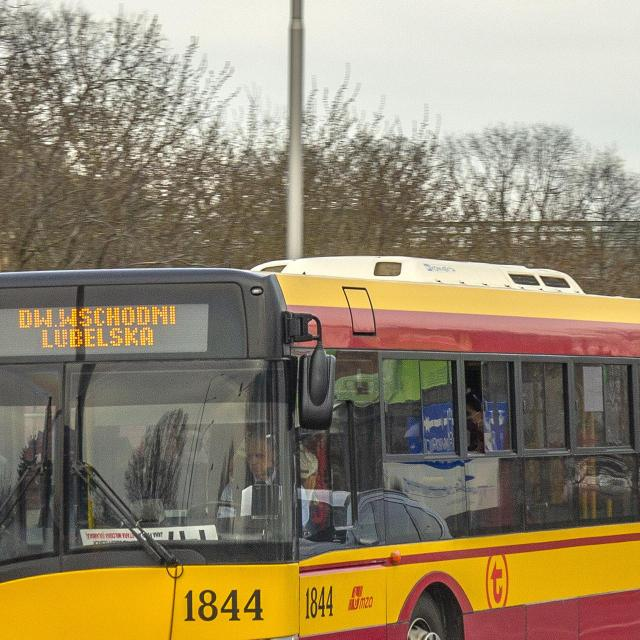Bus: (0, 258, 640, 640)
